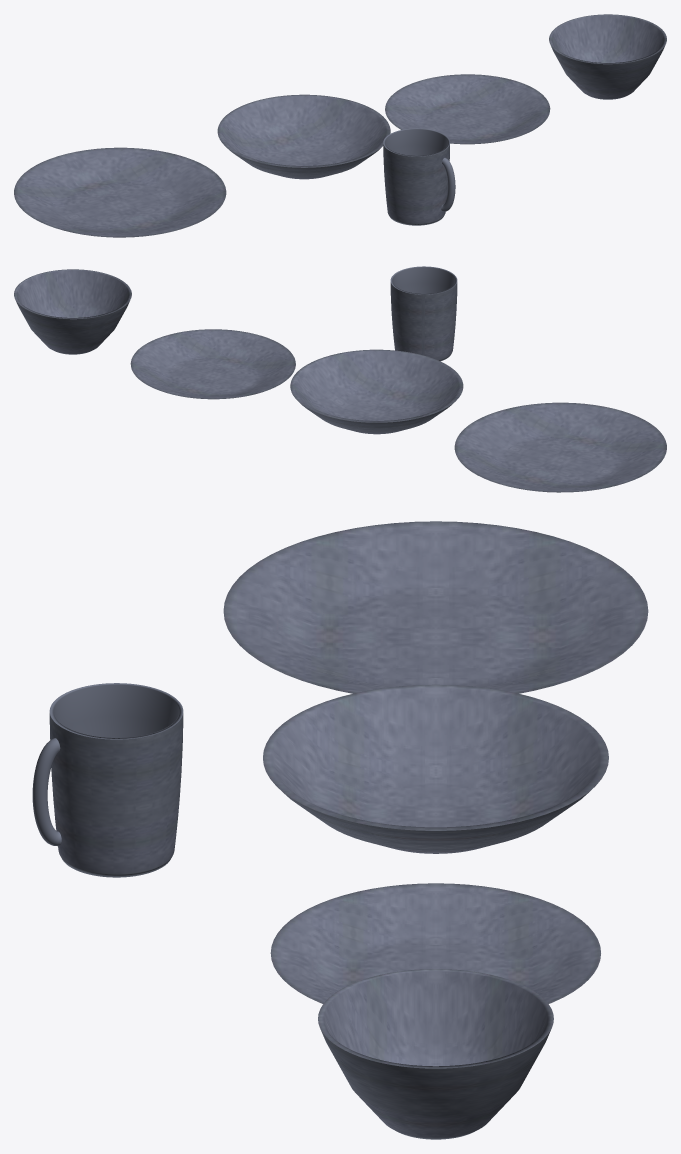
Rendered from GRL-05.glb.
The picture shows the model from 3 angles, top to bottom: view 1: azimuth 30°, elevation 25°; view 2: azimuth 150°, elevation 25°; view 3: azimuth 270°, elevation 25°; orthographic projection. The views are drawn at different scales.
Size of the model in its own units: 0.926 by 0.1 by 0.3913.
11 materials, 9 textured.
